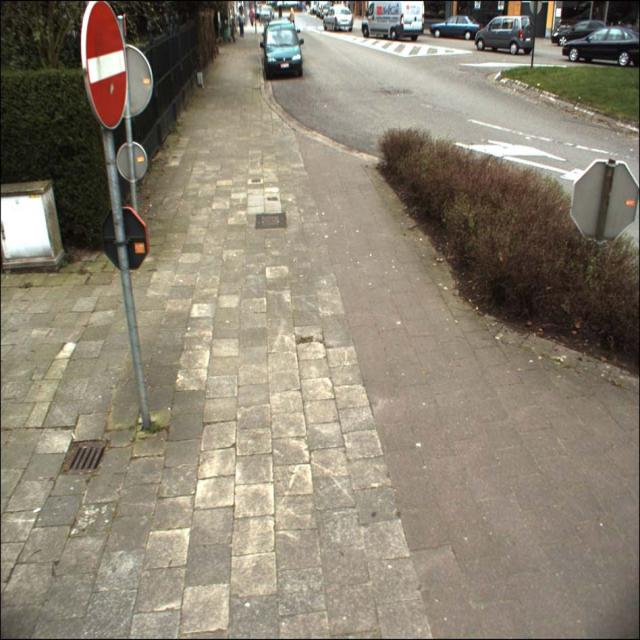girisyok: (80, 1, 127, 130)
